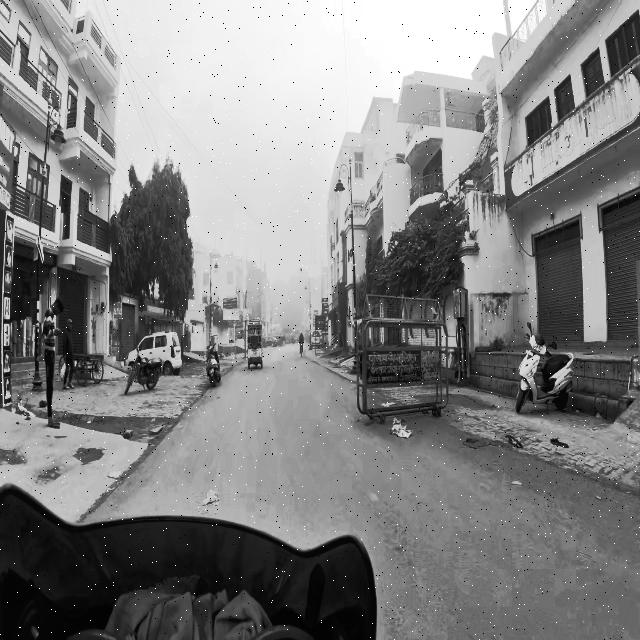Bike: (201, 330, 225, 391)
Car: (123, 328, 188, 379)
Toto: (238, 312, 269, 381)
